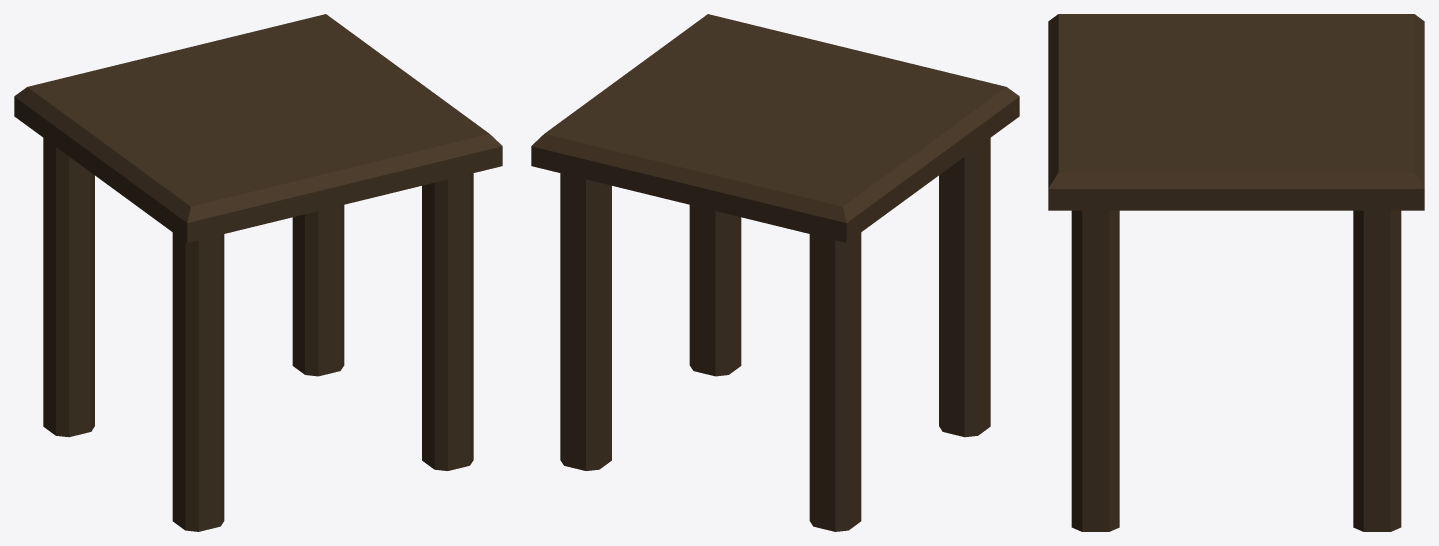
The model's file is Tafburet.fbx.
3 views of the same model, side by side, from view 1: azimuth 30°, elevation 25°; view 2: azimuth 150°, elevation 25°; view 3: azimuth 270°, elevation 25° (orthographic). The views are drawn at different scales.
Parts seen in each view (by area): view 1: Cube.008; view 2: Cube.008; view 3: Cube.008.
Part boxes in pixels (bbox=[...]): Cube.008: bbox=[14, 14, 502, 531]; Cube.008: bbox=[531, 14, 1019, 531]; Cube.008: bbox=[1048, 14, 1424, 531].
Bounding box in the file's own units: 45.05 × 45.45 × 42.83.
